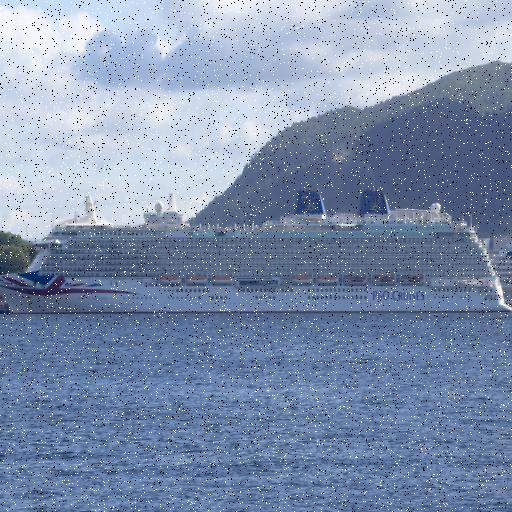cruises: (1, 184, 512, 321)
